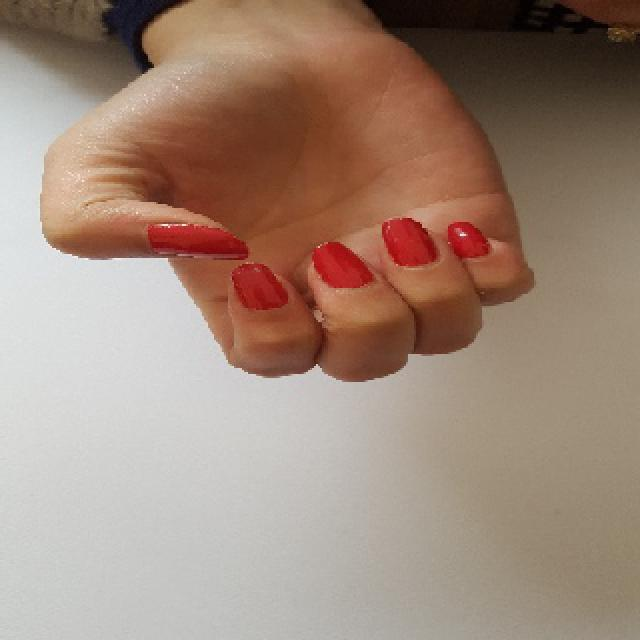Nail: (148, 222, 249, 259), (311, 241, 375, 289), (381, 218, 440, 268), (231, 262, 289, 310), (448, 221, 490, 259)
